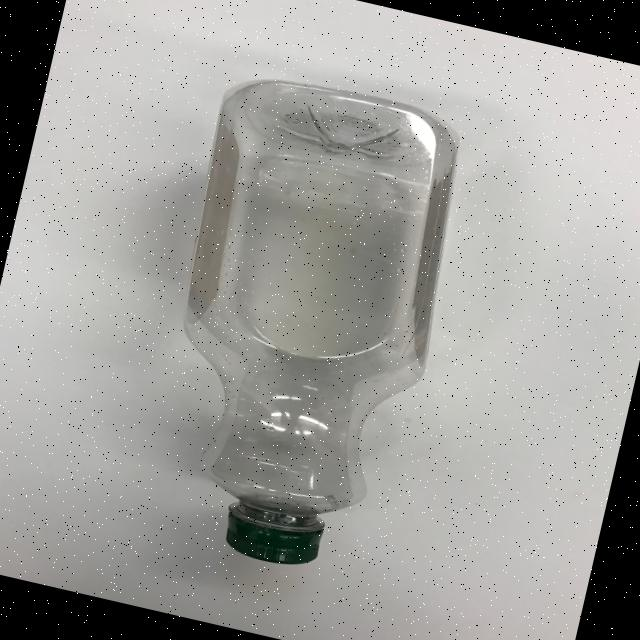plastic: (122, 61, 483, 582)
